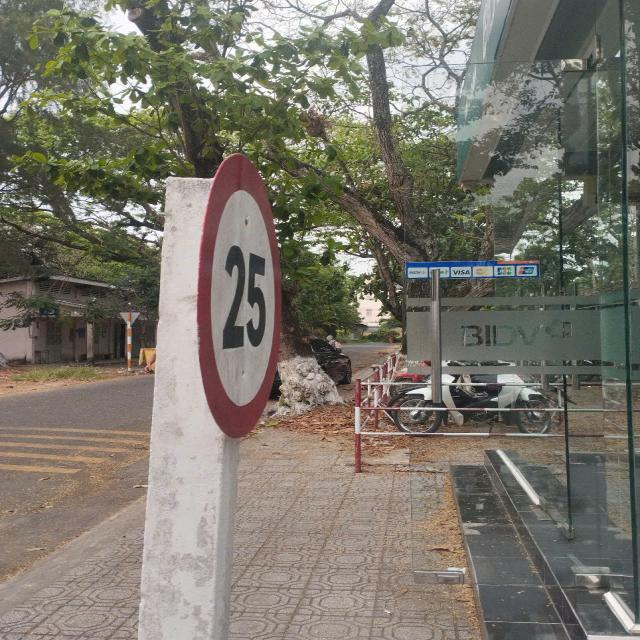Tre_Em: (198, 149, 286, 440)
